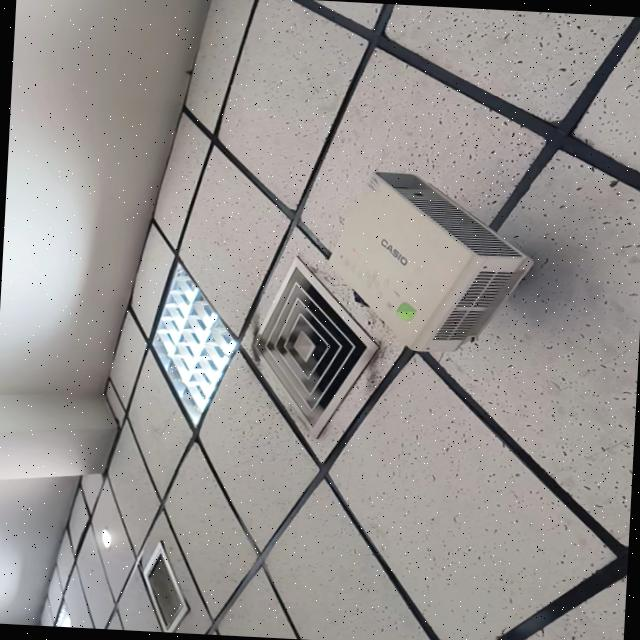Light: (153, 265, 238, 423), (56, 605, 73, 627), (102, 528, 112, 547)
Projector: (329, 171, 533, 351)
